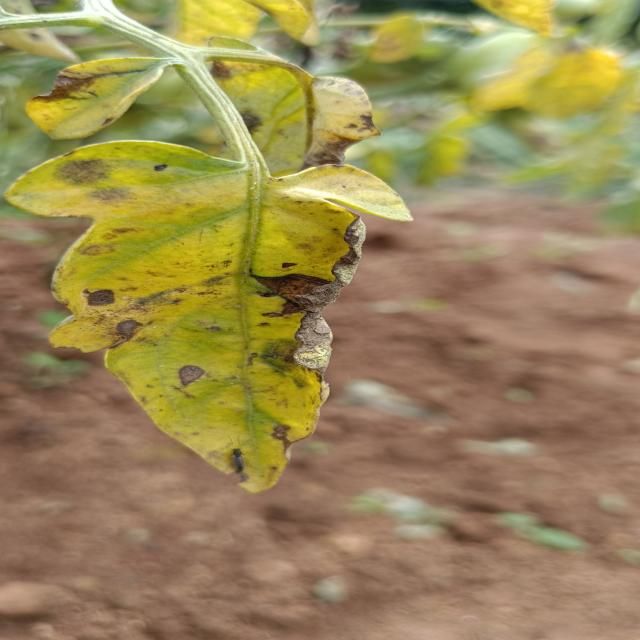tomato_early blight: (0, 130, 409, 501), (189, 41, 384, 171), (454, 32, 640, 127), (21, 47, 160, 142), (168, 0, 331, 50)
